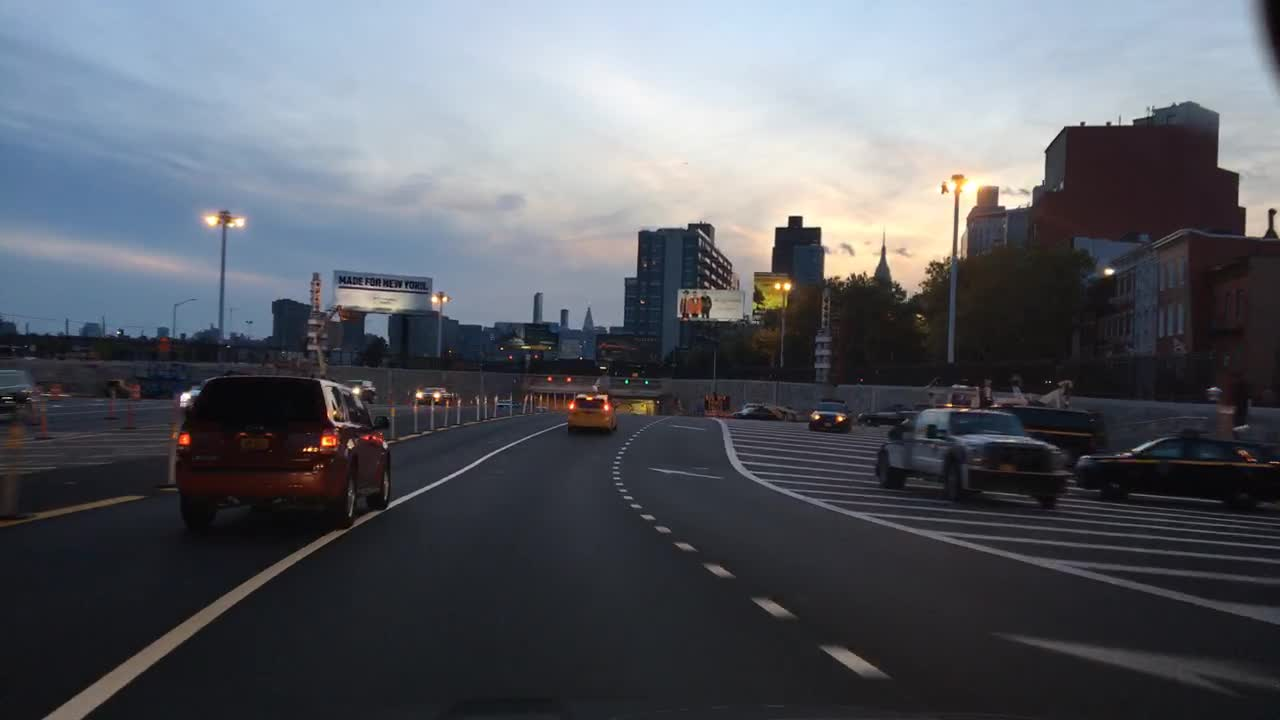car: (172, 371, 394, 530), (873, 406, 1066, 511), (1071, 432, 1279, 511), (566, 388, 620, 434), (807, 401, 853, 432), (0, 371, 33, 411), (855, 406, 905, 425), (345, 379, 379, 401), (728, 405, 774, 421), (179, 382, 204, 411), (772, 401, 797, 422), (491, 394, 517, 406)
traffic light: (563, 376, 571, 388), (622, 374, 627, 389), (544, 376, 551, 386), (642, 375, 648, 386)
truck: (411, 385, 460, 406)
